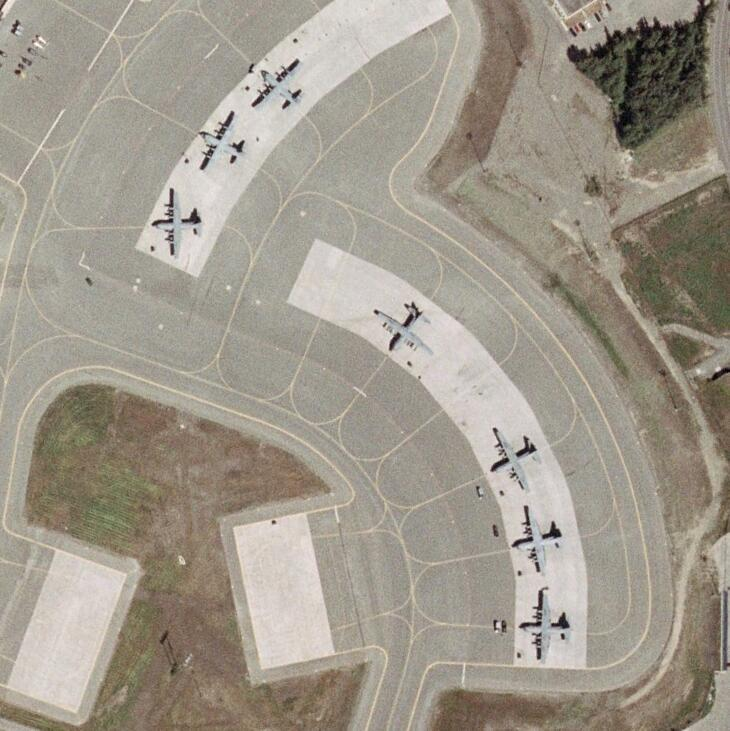A2: (516, 586, 573, 662), (508, 504, 565, 576), (149, 188, 204, 258), (487, 424, 542, 493), (373, 299, 436, 357), (196, 113, 245, 172), (250, 59, 305, 111)
